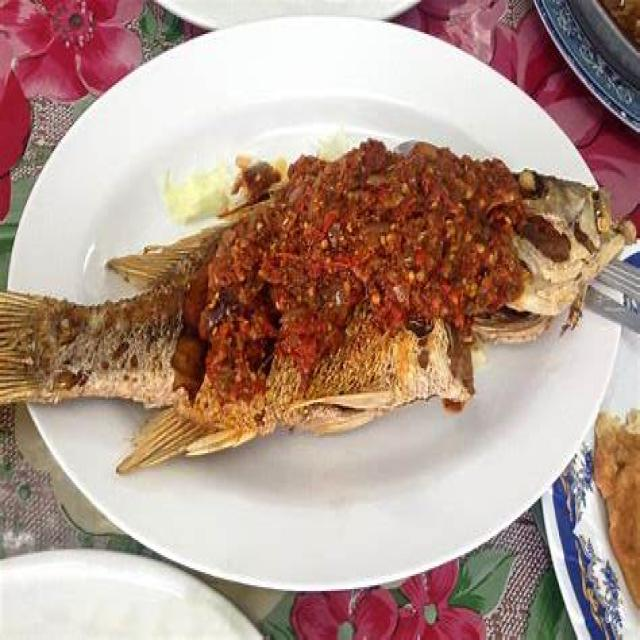Ikan Bakar: (27, 137, 624, 450)
